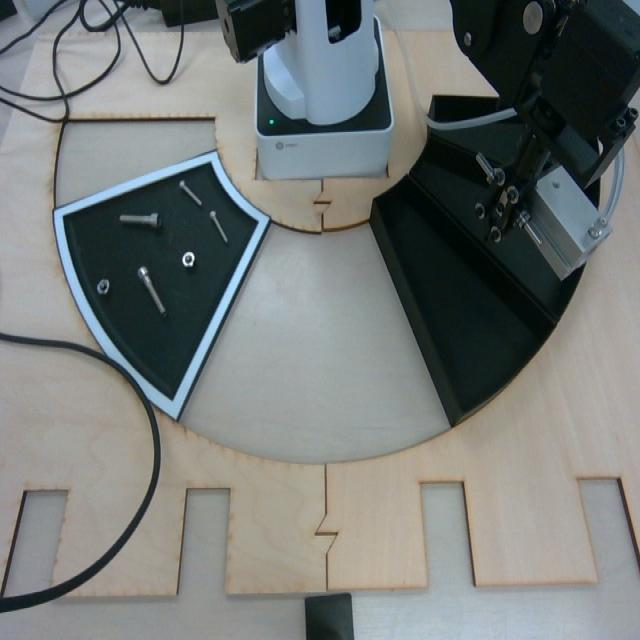Big Bolt: (136, 265, 168, 319), (119, 210, 162, 232)
Metal Nut: (180, 250, 198, 270), (96, 277, 112, 299)
Small Bolt: (178, 178, 204, 210), (209, 209, 229, 246)
